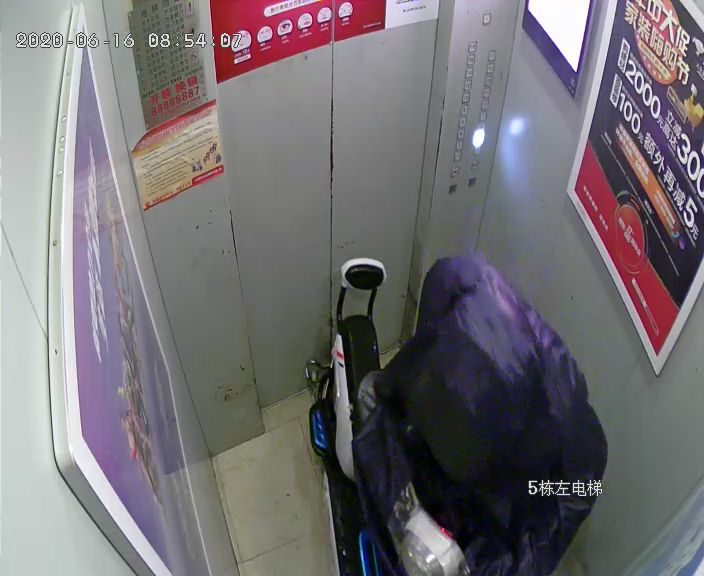Electric-bicycle: (303, 258, 473, 576)
